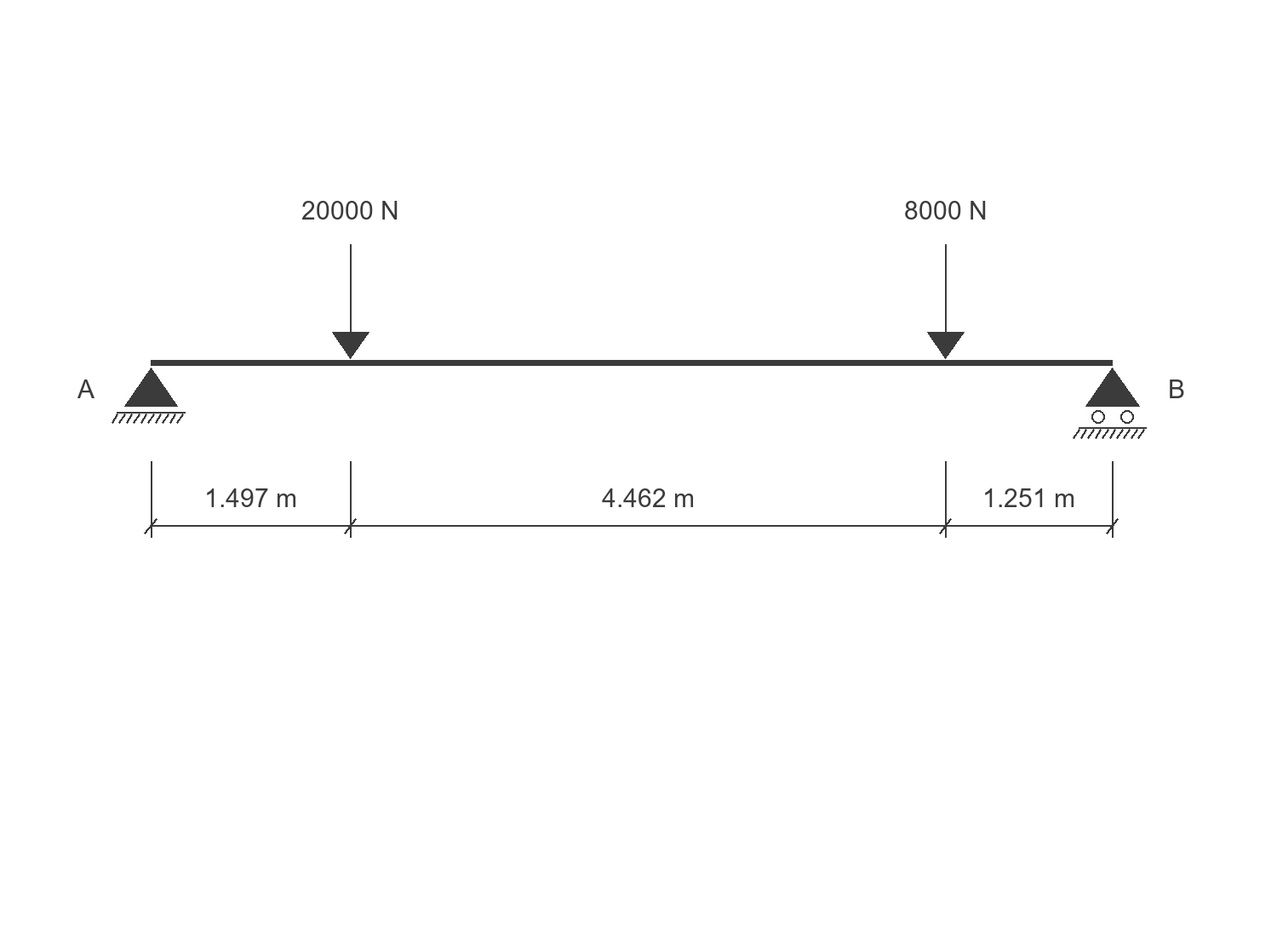pin_support: (112, 368, 186, 424)
point_load: (927, 244, 965, 359), (332, 244, 369, 359)
roller_support: (1073, 368, 1147, 439)
